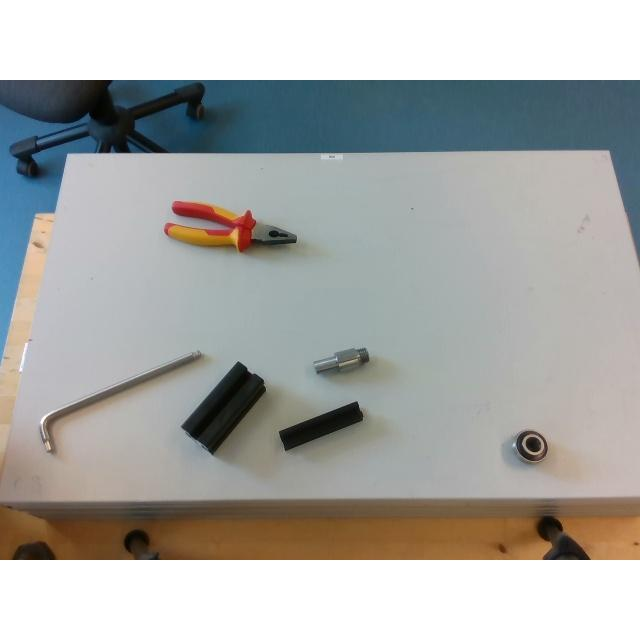AllenKey: (39, 352, 201, 452)
Axis2: (313, 348, 369, 372)
Bearing2: (515, 430, 547, 462)
F20_20_B: (279, 402, 363, 451)
S40_40_B: (181, 361, 265, 453)
